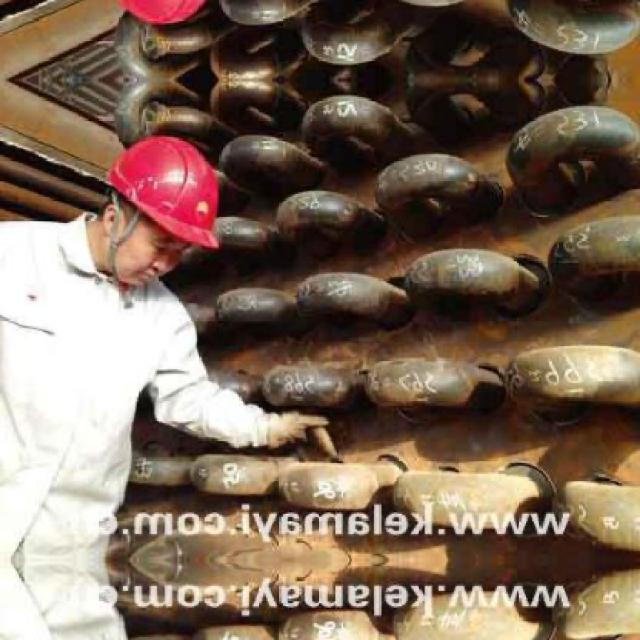con casco: (79, 95, 301, 271)
